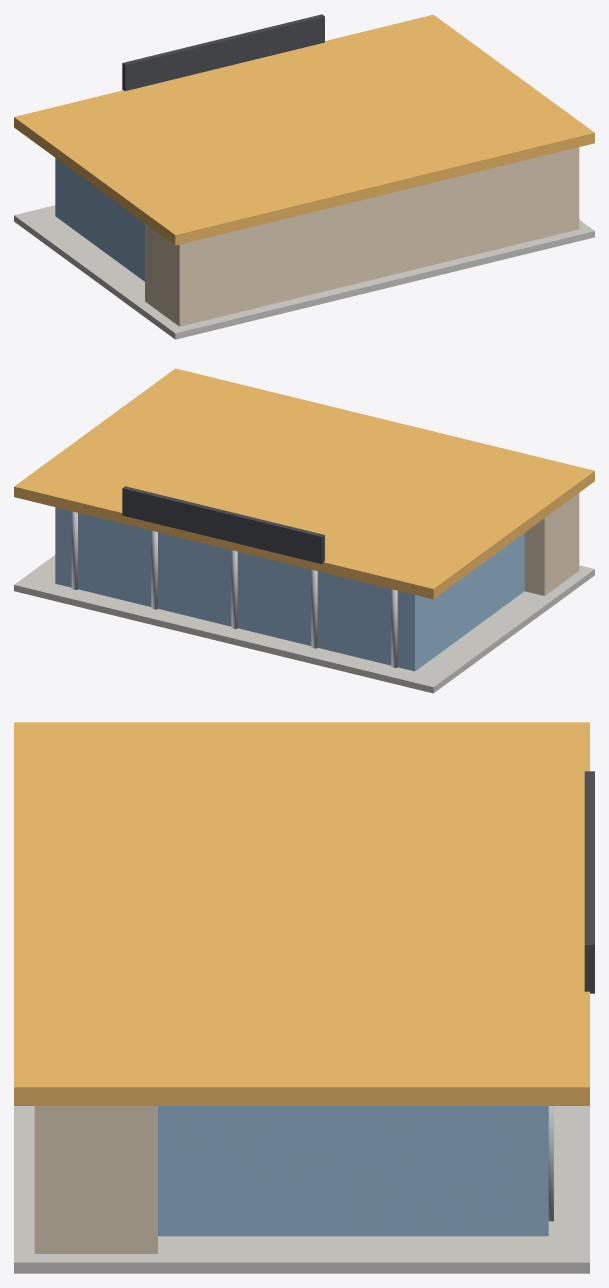
File: B_dealership.fbx
The picture shows the model from 3 angles, top to bottom: view 1: azimuth 30°, elevation 25°; view 2: azimuth 150°, elevation 25°; view 3: azimuth 270°, elevation 25°; orthographic projection. The views are drawn at different scales.
Visible parts, largest first — view 1: Trim.006, Wall.005, Concrete.007, Dark.012, Glass.007; view 2: Trim.006, Glass.007, Concrete.007, Dark.012, Wall.005, Metal.005; view 3: Trim.006, Glass.007, Concrete.007, Wall.005, Dark.012.
Boxes of the visible parts, left/top/right/bottom form: Trim.006: left=14, top=14, right=594, bottom=245; Wall.005: left=145, top=147, right=579, bottom=326; Concrete.007: left=14, top=205, right=594, bottom=339; Dark.012: left=122, top=14, right=324, bottom=90; Glass.007: left=55, top=158, right=144, bottom=281; Trim.006: left=14, top=368, right=594, bottom=599; Glass.007: left=55, top=507, right=524, bottom=671; Concrete.007: left=14, top=555, right=594, bottom=693; Dark.012: left=122, top=486, right=324, bottom=563; Wall.005: left=524, top=493, right=579, bottom=595; Metal.005: left=71, top=511, right=397, bottom=667; Trim.006: left=14, top=722, right=589, bottom=1105; Glass.007: left=158, top=1106, right=548, bottom=1236; Concrete.007: left=14, top=1106, right=589, bottom=1273; Wall.005: left=34, top=1106, right=157, bottom=1253; Dark.012: left=584, top=771, right=594, bottom=993.
Bounding box in the file's own units: 4200 × 1250 × 2825.
